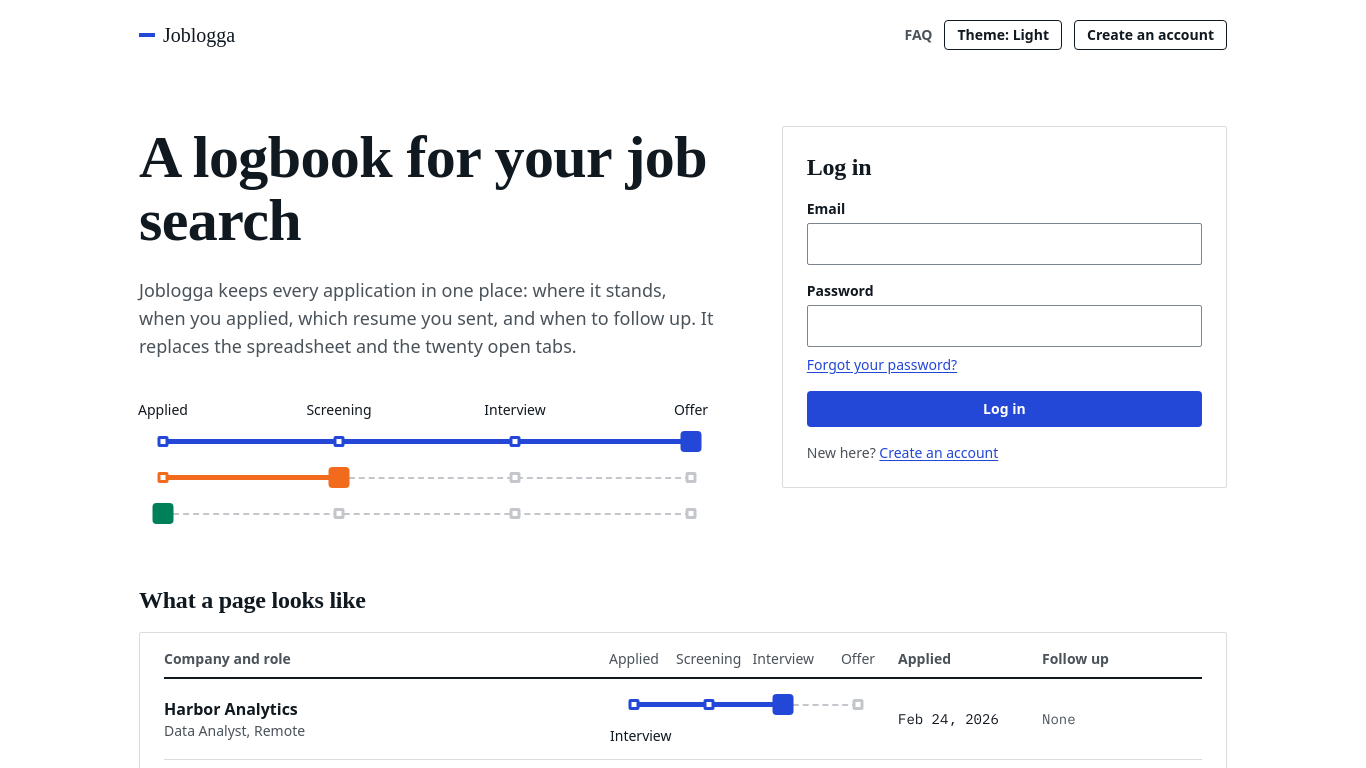
it: logging in from the landing page › shows a wrong-password error in place
Type "me@example.com" into the field labelled "Email" at (1004, 244), box [807, 223, 1202, 265]
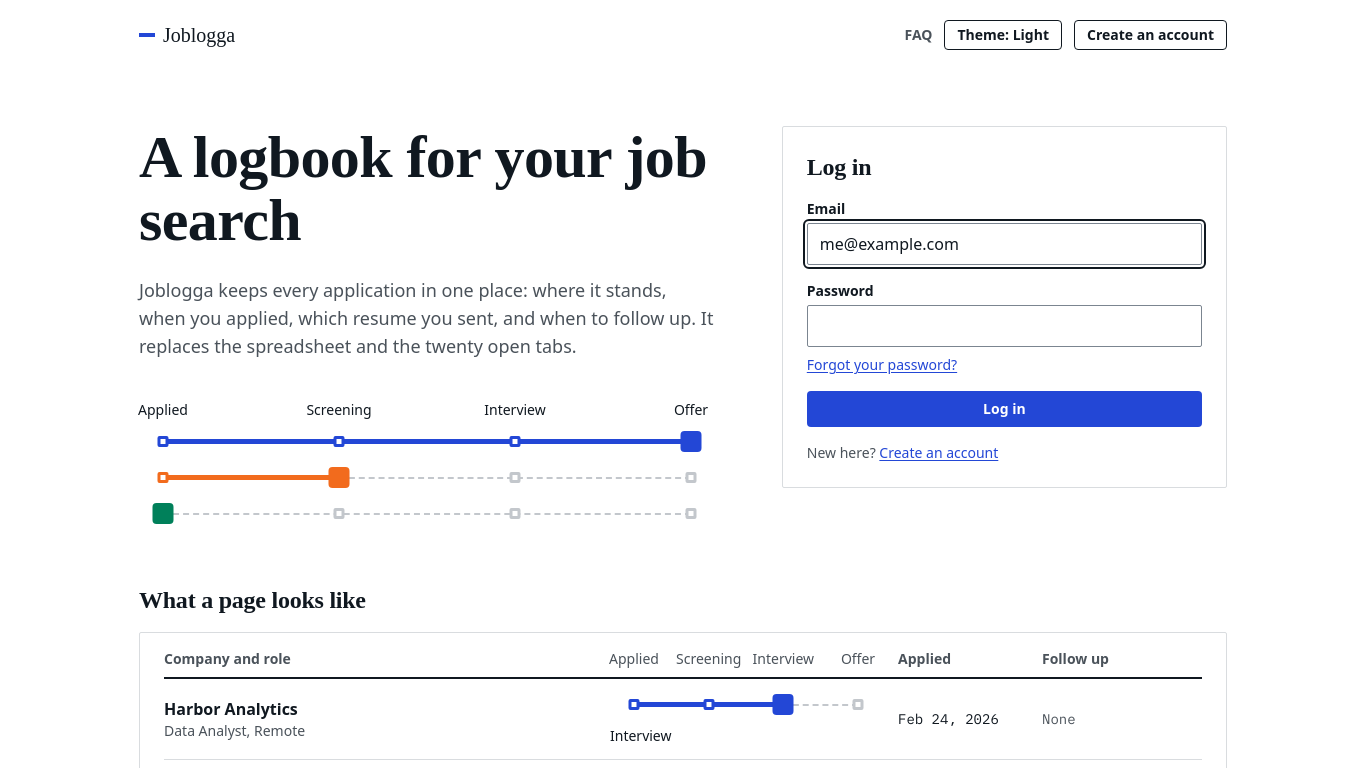
Type "correct-horse-battery" into the password field labelled "Password" at (1004, 326), box [807, 305, 1202, 347]
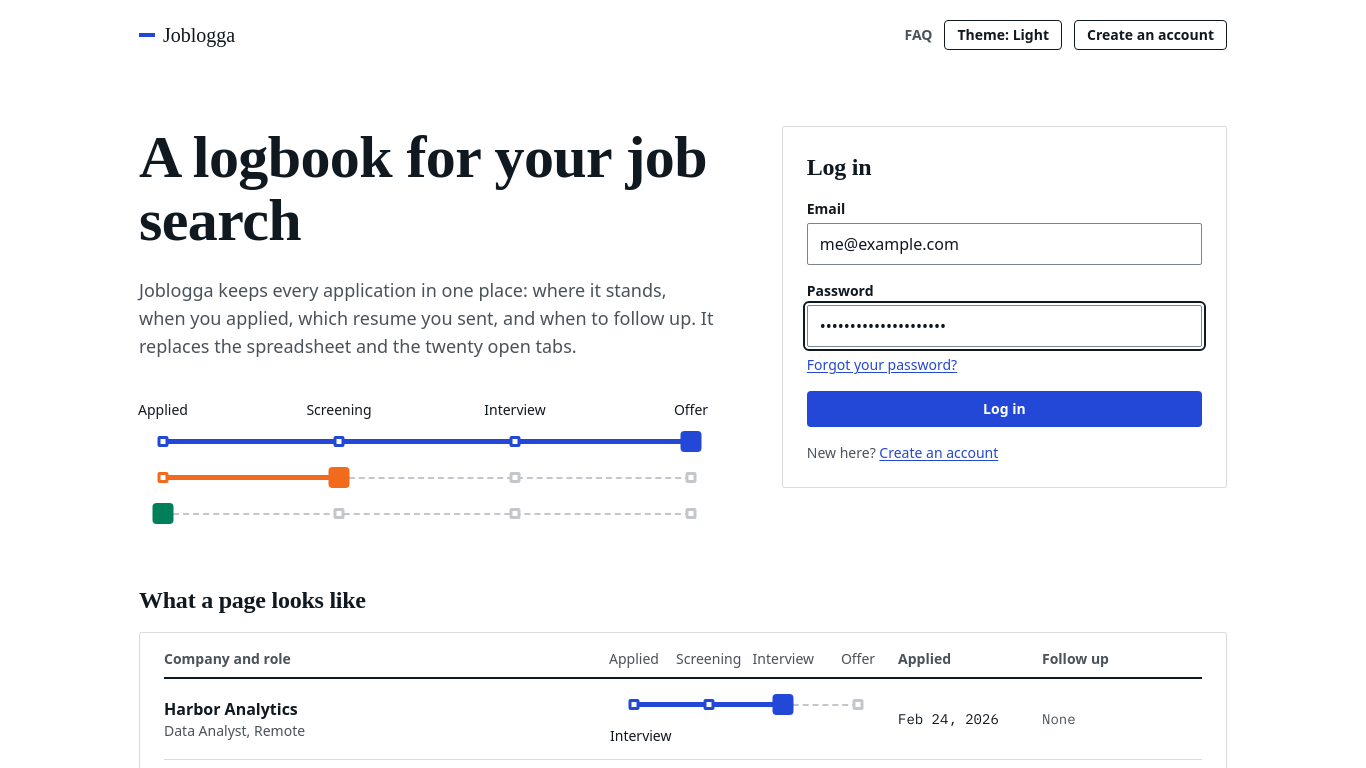
Click the button "Log in" at (1004, 409), box [807, 391, 1202, 427]
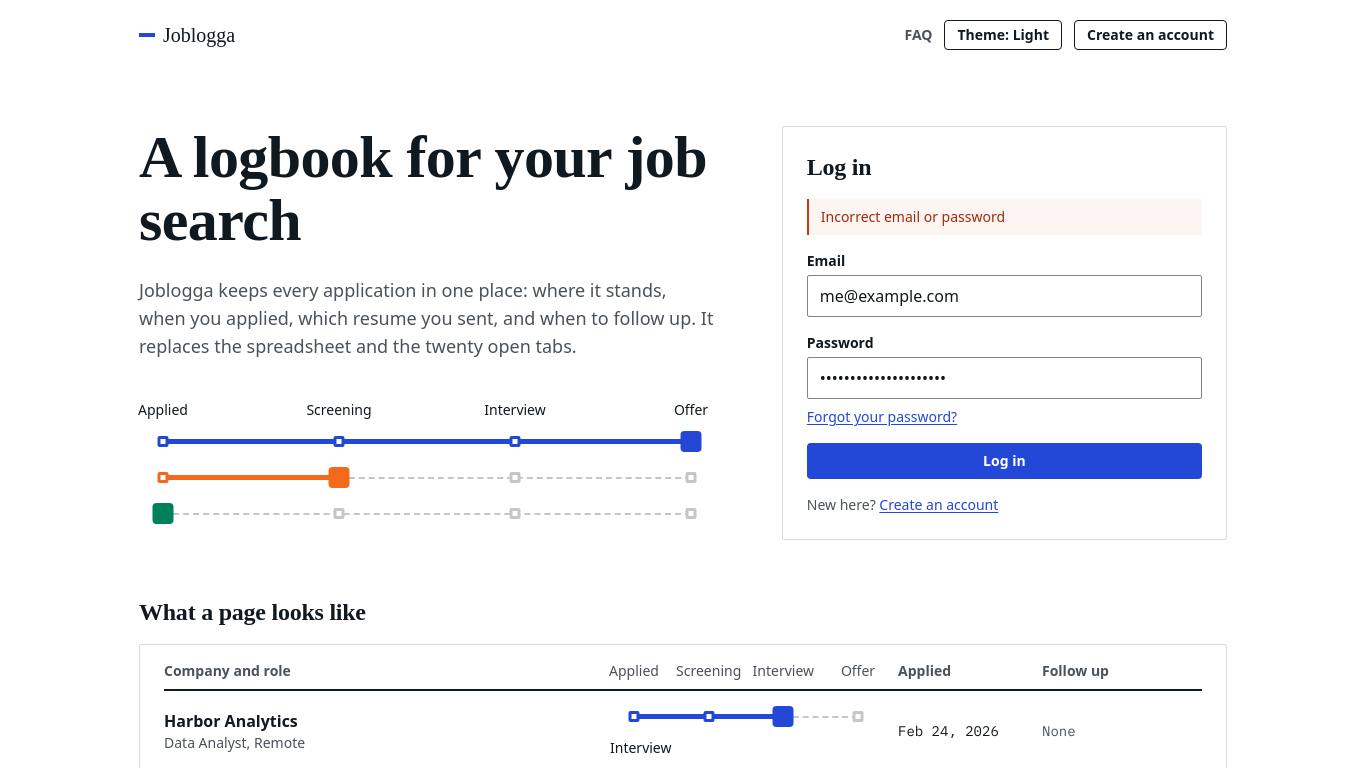
Check: the heading "A logbook for your job search" is shown, box [139, 126, 718, 252]
Check: the message reads "Incorrect email or password", box [821, 207, 1005, 226]
